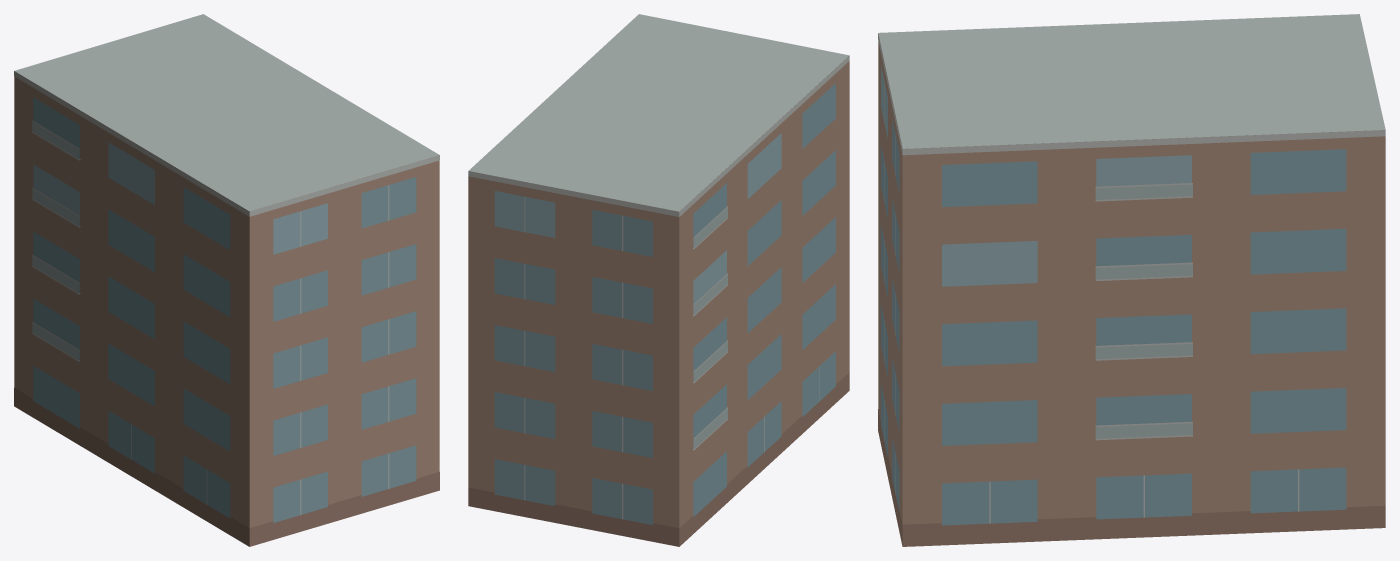
Rendered from survey-upis-32670357.glb.
3 renders of one model, left to right at view 1: azimuth 30°, elevation 25°; view 2: azimuth 150°, elevation 25°; view 3: azimuth 270°, elevation 25°, orthographic. The views are drawn at different scales.
Parts seen in each view (by area): view 1: survey-upis-32670357.tmp; view 2: survey-upis-32670357.tmp; view 3: survey-upis-32670357.tmp.
Part boxes in pixels (box(x1,y1,x2,y2)): survey-upis-32670357.tmp: box(14, 14, 439, 546); survey-upis-32670357.tmp: box(468, 14, 849, 546); survey-upis-32670357.tmp: box(878, 14, 1385, 546).
Bounding box in the file's own units: 11.1 × 15.25 × 17.64.
